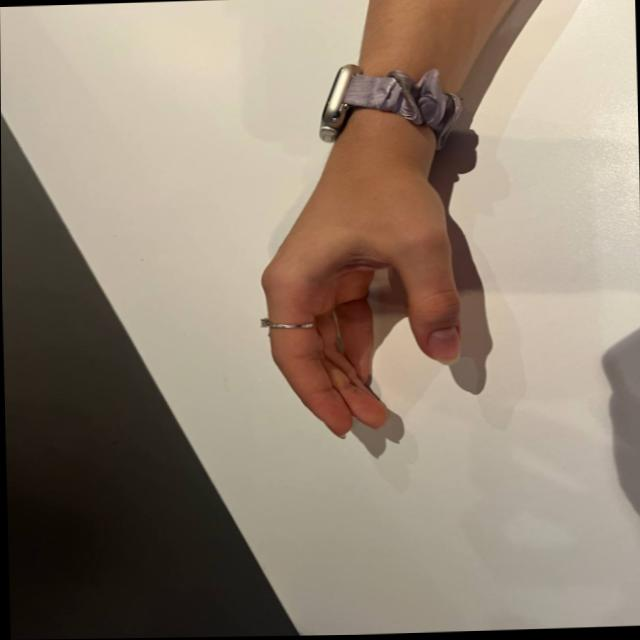s: (245, 171, 502, 483)
